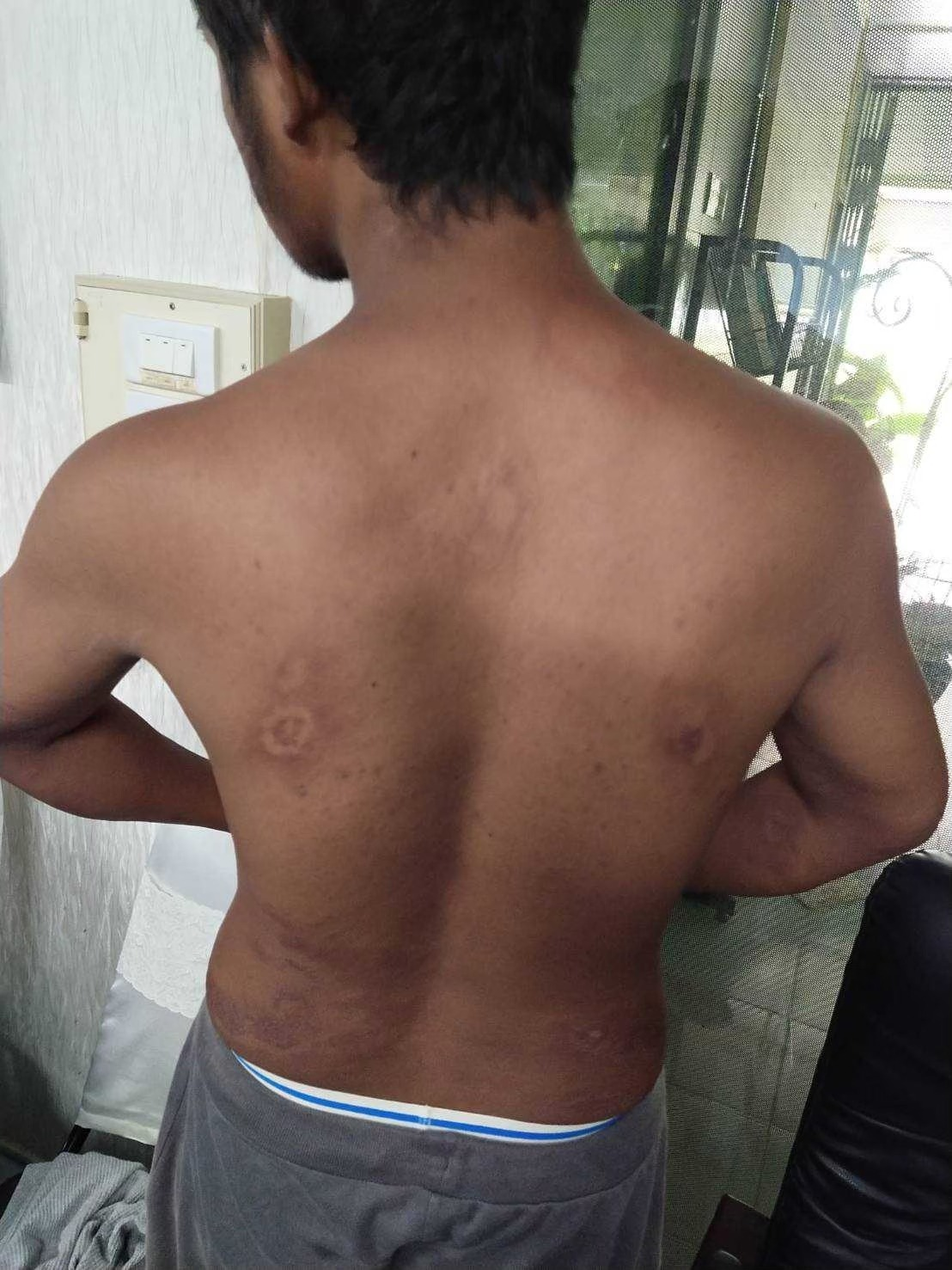Leprosy: (226, 910, 448, 1070), (234, 643, 346, 797), (518, 292, 649, 406), (639, 665, 738, 784), (446, 475, 537, 585), (558, 997, 640, 1070)
